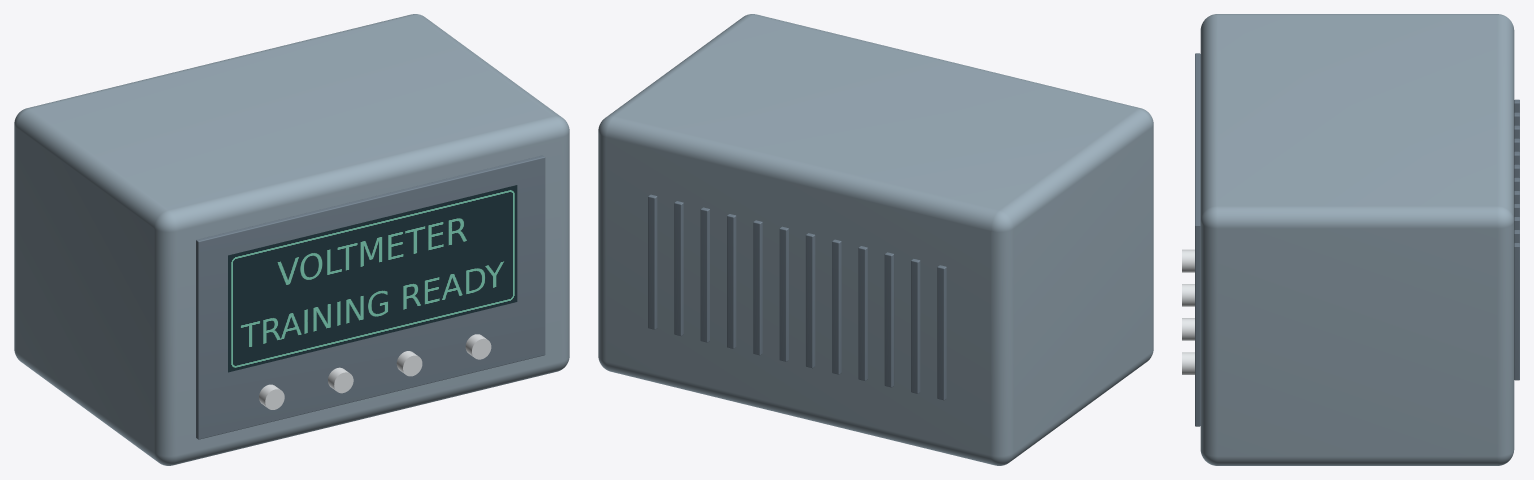
The model's file is VOLTMETER.glb.
3 views of the same model, side by side, from view 1: azimuth 30°, elevation 25°; view 2: azimuth 150°, elevation 25°; view 3: azimuth 270°, elevation 25° (orthographic).
Parts seen in each view (by area): view 1: VOLTMETER/0000_instrument_case, VOLTMETER/0001_bezel, VOLTMETER/label_2; view 2: VOLTMETER/0000_instrument_case, VOLTMETER/0009_rear_vent, VOLTMETER/0012_rear_vent, VOLTMETER/0017_rear_vent, VOLTMETER/0011_rear_vent, VOLTMETER/0013_rear_vent, VOLTMETER/0014_rear_vent, VOLTMETER/0016_rear_vent, VOLTMETER/0018_rear_vent, VOLTMETER/0007_rear_vent, VOLTMETER/0010_rear_vent, VOLTMETER/0008_rear_vent (+1 smaller); view 3: VOLTMETER/0000_instrument_case, VOLTMETER/0001_bezel, VOLTMETER/0018_rear_vent.
Part boxes in pixels (x1,y1,x2,y2): VOLTMETER/0000_instrument_case: [14, 14, 569, 465]; VOLTMETER/0001_bezel: [196, 155, 545, 439]; VOLTMETER/label_2: [228, 185, 517, 372]; VOLTMETER/0000_instrument_case: [598, 14, 1153, 465]; VOLTMETER/0009_rear_vent: [884, 252, 894, 387]; VOLTMETER/0012_rear_vent: [805, 233, 815, 368]; VOLTMETER/0017_rear_vent: [674, 201, 683, 336]; VOLTMETER/0011_rear_vent: [832, 239, 841, 374]; VOLTMETER/0013_rear_vent: [779, 226, 788, 361]; VOLTMETER/0014_rear_vent: [753, 220, 762, 355]; VOLTMETER/0016_rear_vent: [700, 207, 709, 342]; VOLTMETER/0018_rear_vent: [648, 194, 657, 329]; VOLTMETER/0007_rear_vent: [937, 265, 946, 400]; VOLTMETER/0010_rear_vent: [858, 246, 867, 380]; VOLTMETER/0008_rear_vent: [911, 259, 920, 393]; VOLTMETER/0000_instrument_case: [1200, 14, 1514, 465]; VOLTMETER/0001_bezel: [1195, 53, 1200, 426]; VOLTMETER/0018_rear_vent: [1514, 243, 1519, 380].
Bounding box in the file's own units: 0.17 × 0.1 × 0.1185.
5 materials, 1 textured.
